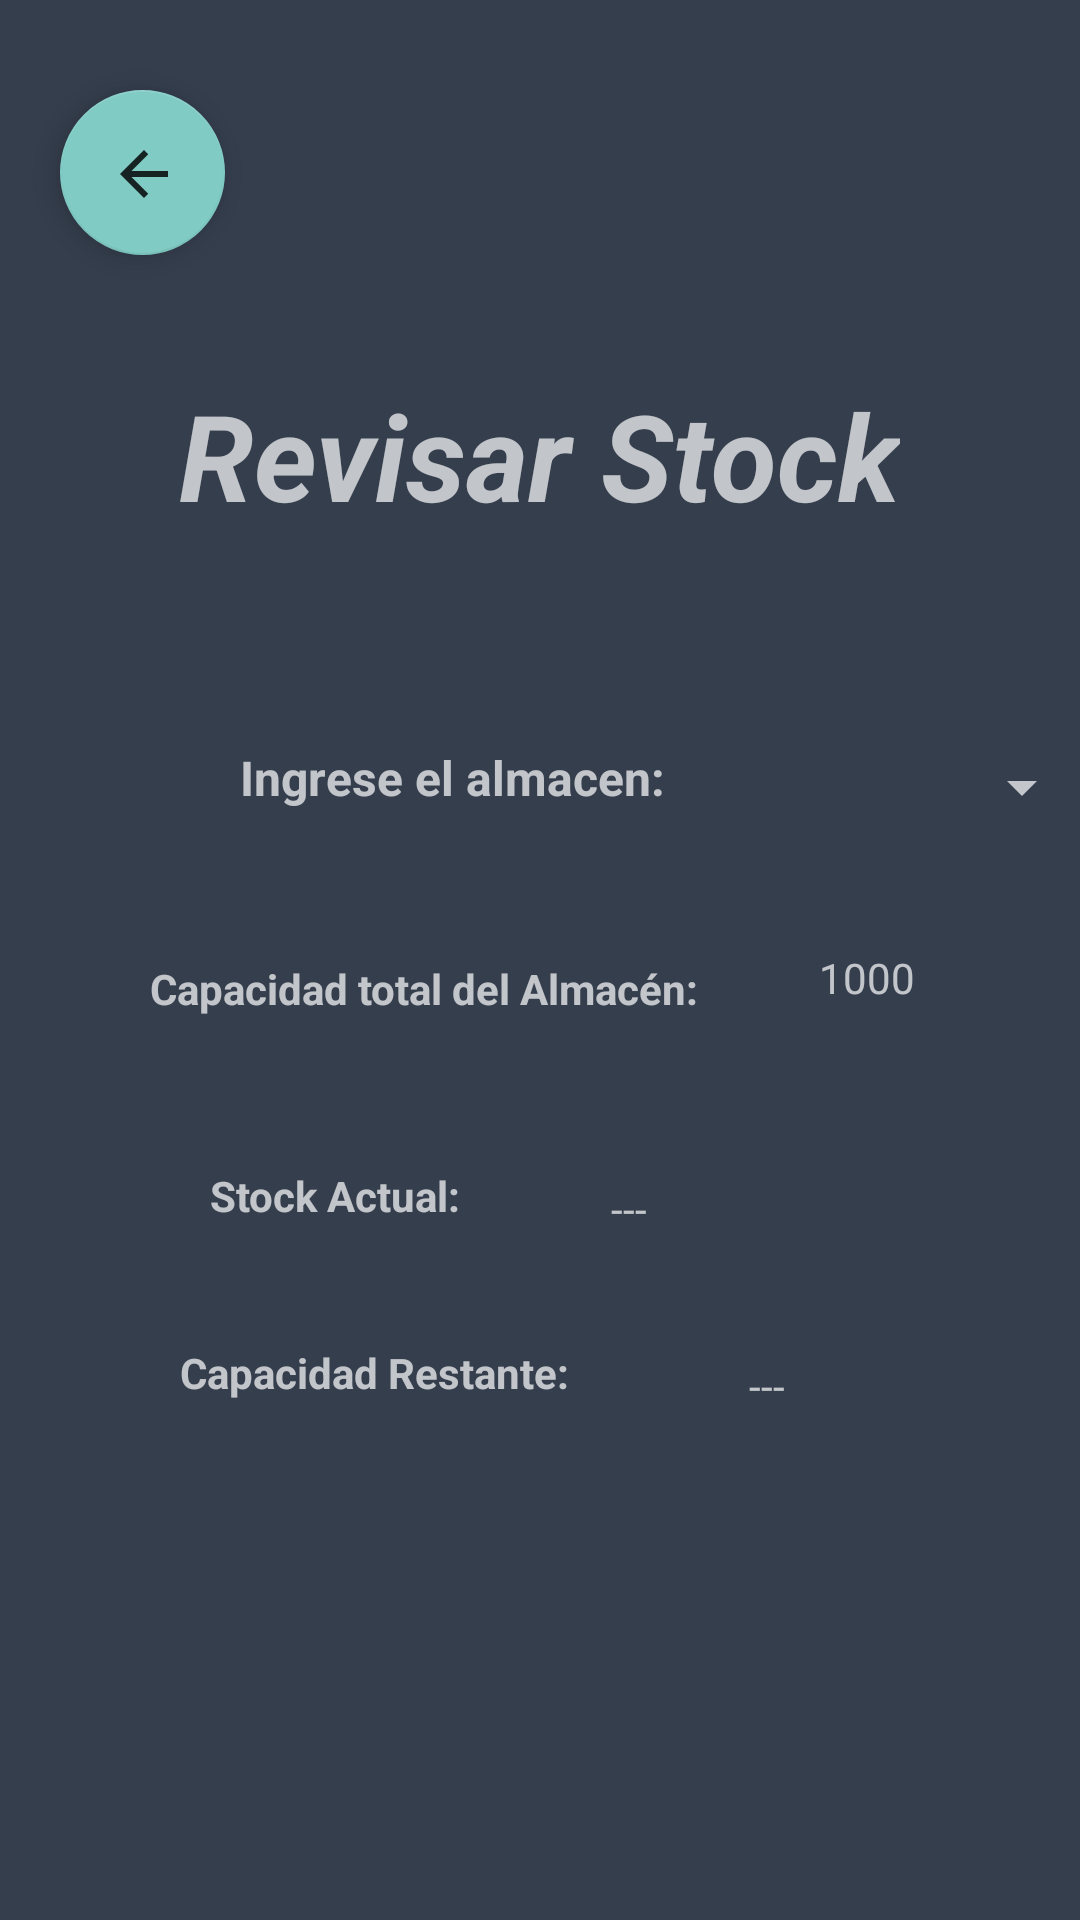

Where to tap for icons on this 1080 × 1920 app screen, as [x,y]:
atras: [142,172]
